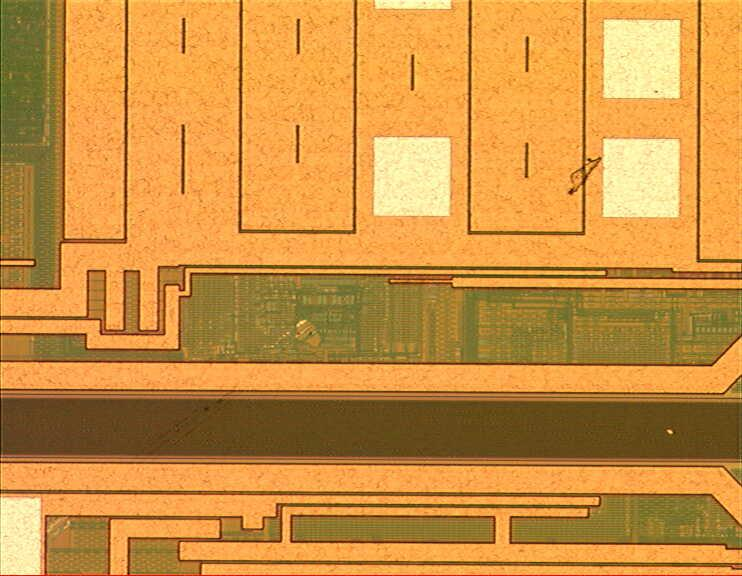SCRATCH: (28, 153, 613, 563)
